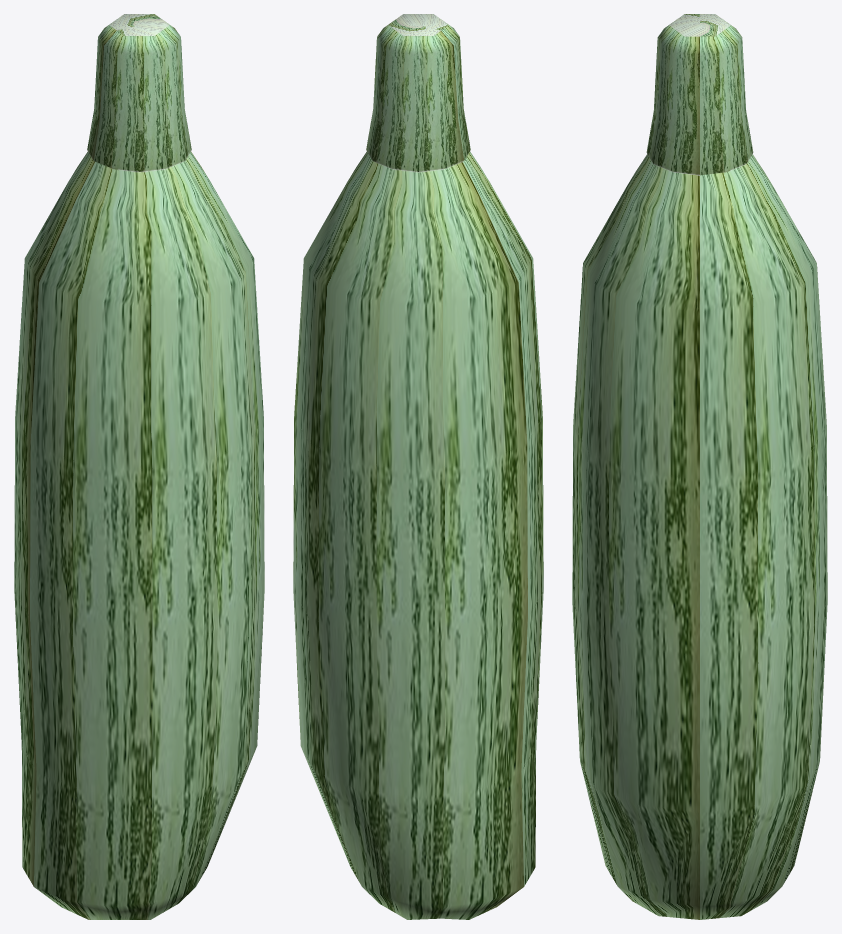
File: zucchini.fbx
The picture shows the model from 3 angles, left to right: view 1: azimuth 30°, elevation 25°; view 2: azimuth 150°, elevation 25°; view 3: azimuth 270°, elevation 25°; orthographic projection. The views are drawn at different scales.
Parts seen in each view (by area): view 1: polySurface2, stem; view 2: polySurface2, stem; view 3: polySurface2, stem.
Part boxes in pixels (box(x1,y1,x2,y2)): polySurface2: box(14, 151, 264, 919); stem: box(87, 14, 191, 171); polySurface2: box(293, 151, 543, 919); stem: box(366, 14, 470, 171); polySurface2: box(572, 154, 827, 919); stem: box(646, 14, 753, 175).
Size of the model in its own units: 0.4454 by 1.69 by 0.4409.
